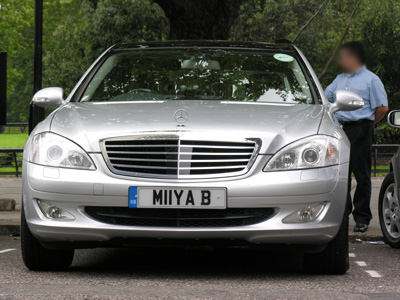licencePlate: (128, 186, 227, 208)
